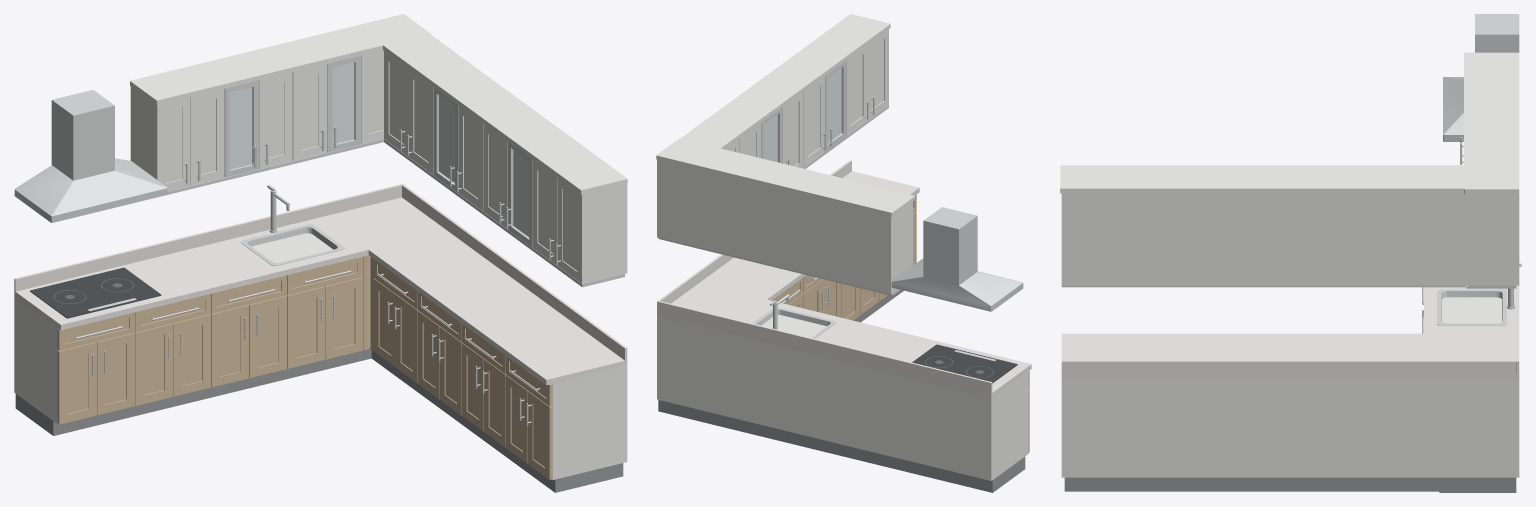
3 views of the same model, side by side, from view 1: azimuth 30°, elevation 25°; view 2: azimuth 150°, elevation 25°; view 3: azimuth 270°, elevation 25° (orthographic). The views are drawn at different scales.
Visible parts, largest first — view 1: Tủ bếp chữ L Dài cạnh chính=3000; Dài cạnh phụ=3000; Sâu tủ ; view 2: Tủ bếp chữ L Dài cạnh chính=3000; Dài cạnh phụ=3000; Sâu tủ ; view 3: Tủ bếp chữ L Dài cạnh chính=3000; Dài cạnh phụ=3000; Sâu tủ .
Part boxes in pixels (left/top/right/bottom): Tủ bếp chữ L Dài cạnh chính=3000; Dài cạnh phụ=3000; Sâu tủ : left=14, top=14, right=627, bottom=492; Tủ bếp chữ L Dài cạnh chính=3000; Dài cạnh phụ=3000; Sâu tủ : left=656, top=14, right=1031, bottom=492; Tủ bếp chữ L Dài cạnh chính=3000; Dài cạnh phụ=3000; Sâu tủ : left=1060, top=14, right=1521, bottom=492.
Bounding box in the file's own units: 3.01 × 2.2 × 3.02.
